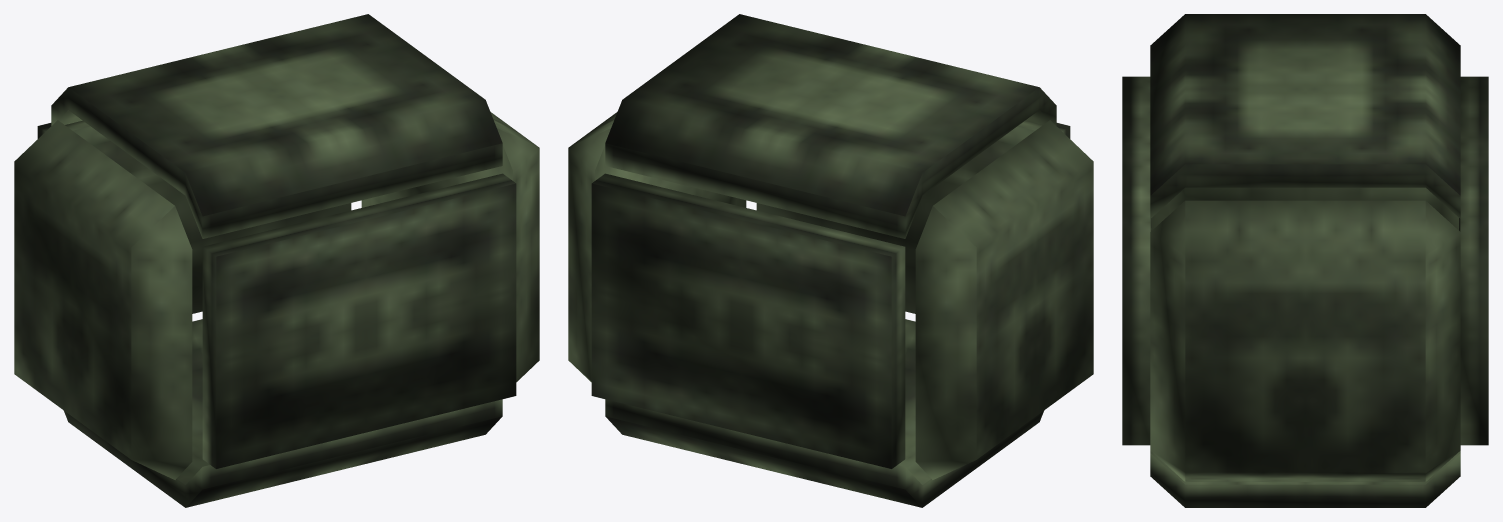
File: grave_drop_crate_debris.glb
3 renders of one model, left to right at view 1: azimuth 30°, elevation 25°; view 2: azimuth 150°, elevation 25°; view 3: azimuth 270°, elevation 25°, orthographic. The views are drawn at different scales.
Parts seen in each view (by area): view 1: Cube.005, Cube.004, Cube.006, Cube.002, Cube.001, Cube.003; view 2: Cube.003, Cube.004, Cube.006, Cube.002, Cube.001, Cube.005; view 3: Cube.001, Cube.004, Cube.003, Cube.005, Cube.002, Cube.006.
Part boxes in pixels (x1=…): Cube.005: x1=202, y1=173, x2=516, y2=468; Cube.004: x1=51, y1=14, x2=502, y2=238; Cube.006: x1=14, y1=120, x2=192, y2=479; Cube.002: x1=63, y1=319, x2=502, y2=507; Cube.001: x1=361, y1=112, x2=539, y2=382; Cube.003: x1=37, y1=120, x2=351, y2=313; Cube.003: x1=591, y1=173, x2=905, y2=468; Cube.004: x1=605, y1=14, x2=1056, y2=238; Cube.006: x1=915, y1=120, x2=1093, y2=479; Cube.002: x1=605, y1=319, x2=1044, y2=507; Cube.001: x1=568, y1=112, x2=746, y2=382; Cube.005: x1=756, y1=120, x2=1070, y2=313; Cube.001: x1=1150, y1=200, x2=1460, y2=481; Cube.004: x1=1150, y1=14, x2=1460, y2=218; Cube.003: x1=1459, y1=76, x2=1488, y2=445; Cube.005: x1=1122, y1=76, x2=1151, y2=445; Cube.002: x1=1150, y1=451, x2=1460, y2=507; Cube.006: x1=1152, y1=187, x2=1458, y2=230.
Size of the model in its own units: 1.27 by 0.9972 by 0.9634.
Materials: 1 (1 with a texture image).
